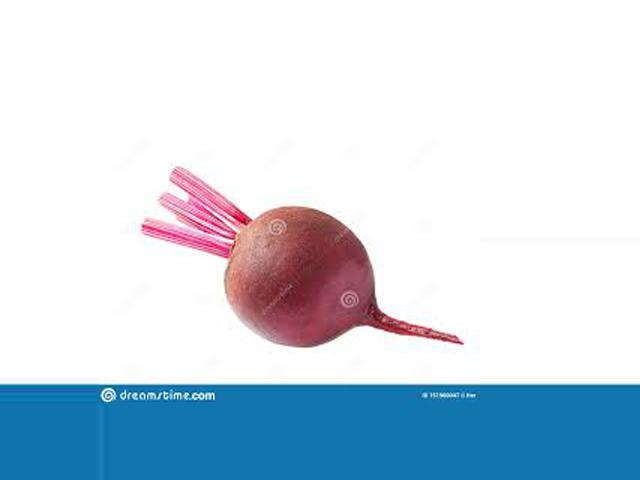beet: (142, 168, 460, 345)
